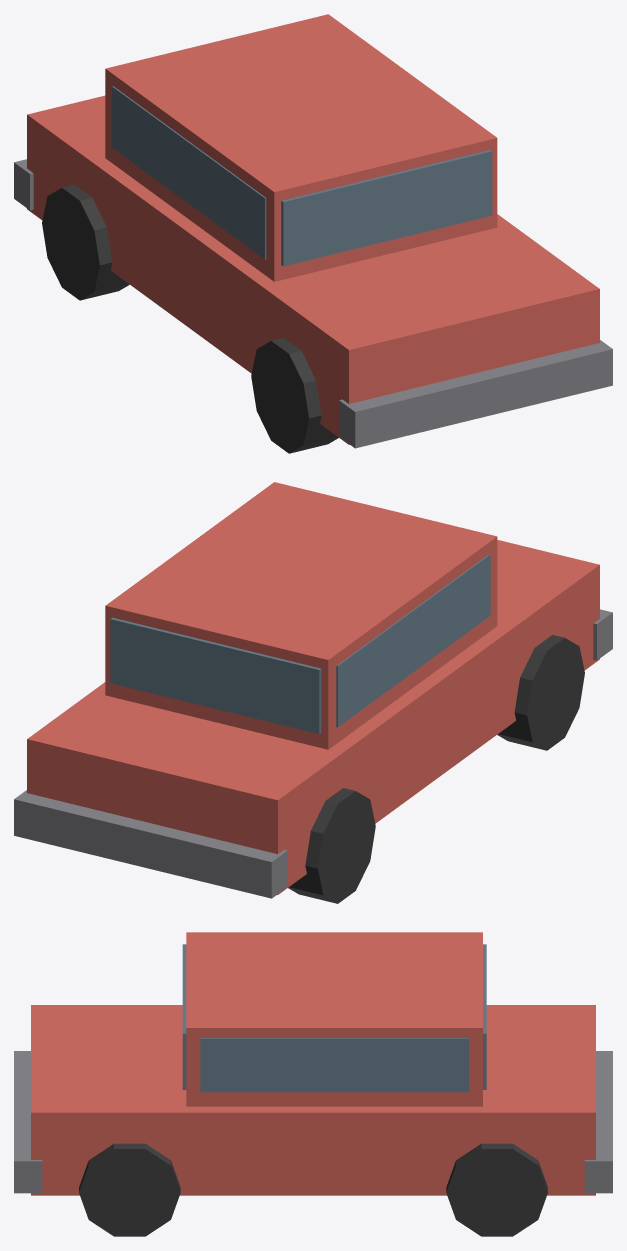
Rendered from IZ_Coche.fbx.
3 renders of one model, top to bottom at view 1: azimuth 30°, elevation 25°; view 2: azimuth 150°, elevation 25°; view 3: azimuth 270°, elevation 25°, orthographic. The views are drawn at different scales.
Visible parts, largest first — view 1: IZ_Coche; view 2: IZ_Coche; view 3: IZ_Coche.
Boxes of the visible parts, x1,y1,x2,y2 form: IZ_Coche: (14, 14, 612, 453); IZ_Coche: (14, 482, 612, 903); IZ_Coche: (14, 932, 612, 1236).
Size of the model in its own units: 1.98 by 1.54 by 4.24.
